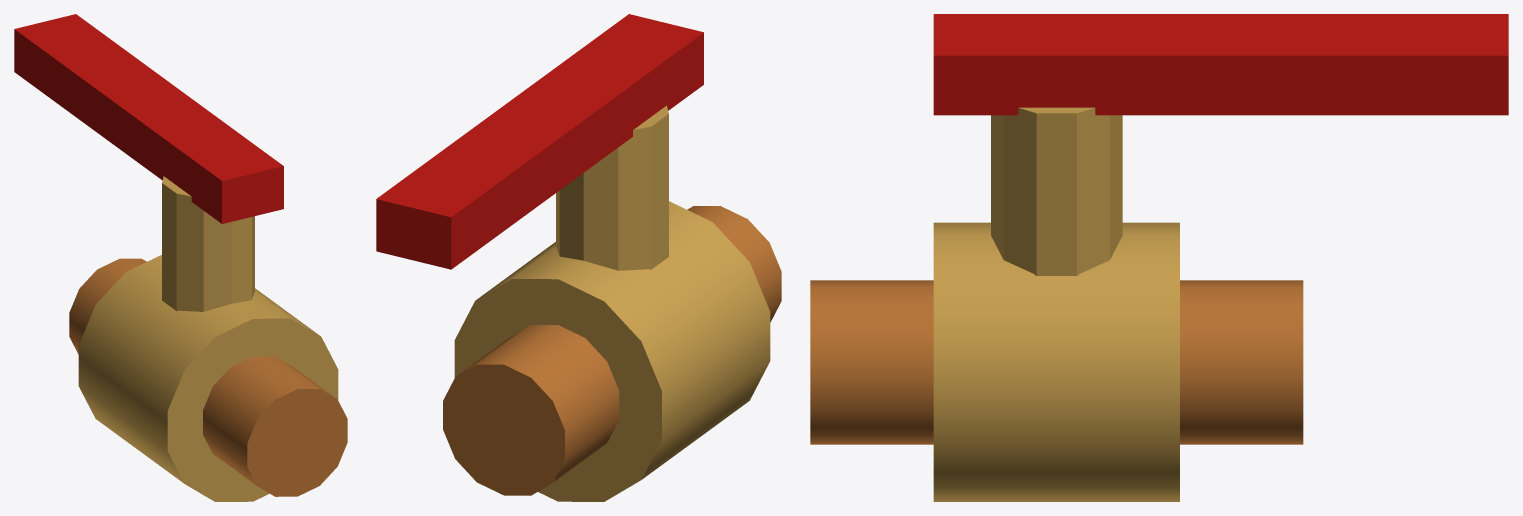
Rendered from services.pipe.valve_28.glb.
The picture shows the model from 3 angles, left to right: view 1: azimuth 30°, elevation 25°; view 2: azimuth 150°, elevation 25°; view 3: azimuth 270°, elevation 25°; orthographic projection. The views are drawn at different scales.
Parts seen in each view (by area): view 1: main__brass, main__plastic_red, main__copper; view 2: main__brass, main__plastic_red, main__copper; view 3: main__brass, main__plastic_red, main__copper.
Part boxes in pixels (<box>): main__brass: <box>78,176,338,501</box>; main__plastic_red: <box>14,14,283,223</box>; main__copper: <box>69,258,347,496</box>; main__brass: <box>454,105,770,501</box>; main__plastic_red: <box>376,14,703,269</box>; main__copper: <box>443,206,781,495</box>; main__brass: <box>933,107,1179,501</box>; main__plastic_red: <box>933,14,1508,115</box>; main__copper: <box>810,280,1303,444</box>.
Bounding box in the file's own units: 0.0464 × 0.0854 × 0.119.
